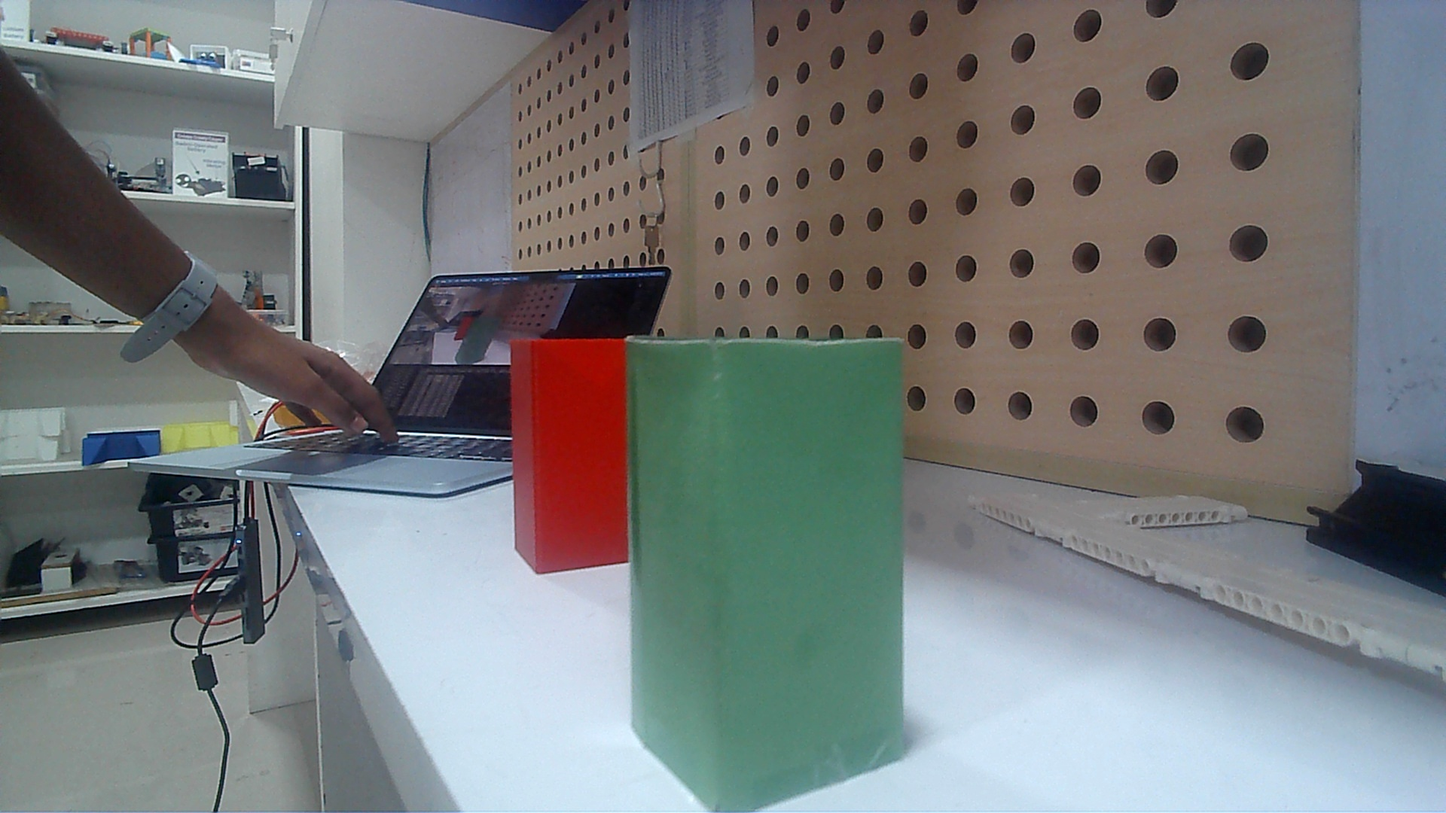green: (633, 335, 903, 811)
